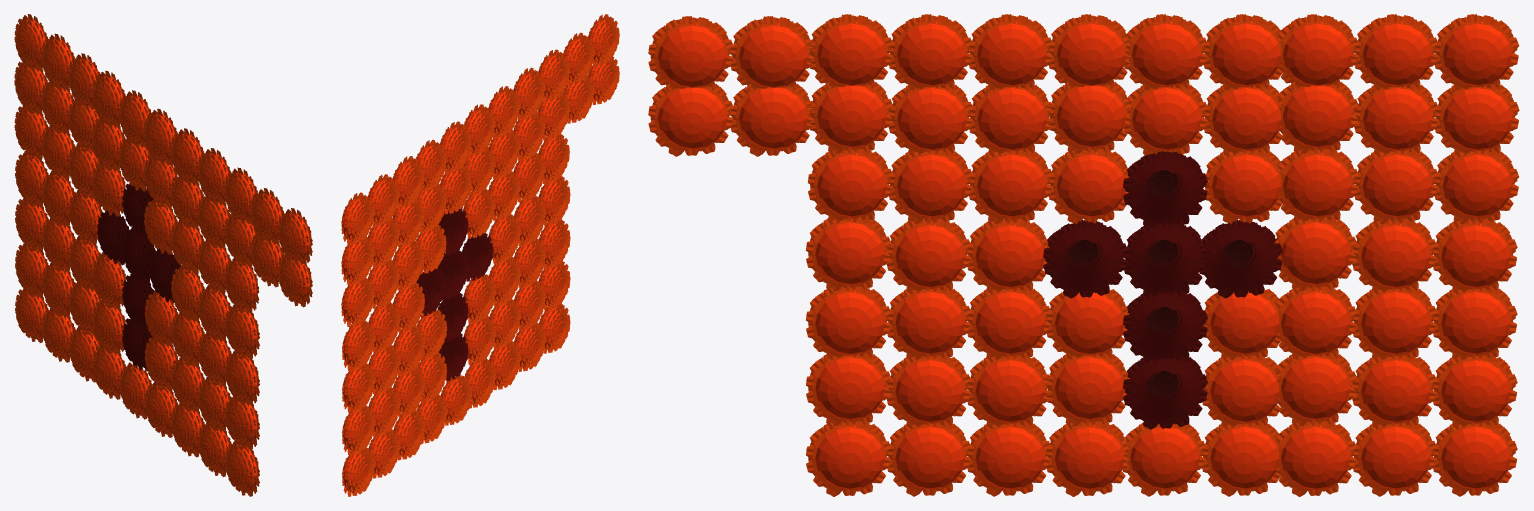
Rendered from entrada4.obj.
The picture shows the model from 3 angles, left to right: view 1: azimuth 30°, elevation 25°; view 2: azimuth 150°, elevation 25°; view 3: azimuth 270°, elevation 25°; orthographic projection. The views are drawn at different scales.
Visible parts, largest first — view 1: Plano.139, Plano.133, Plano.153, Plano.145, Plano.132, Plano.150, Plano.170, Plano.138, Plano.175, Plano.171, Plano.185, Plano.194 (+55 smaller); view 2: Plano.194, Plano.191, Plano.196, Plano.190, Plano.195, Plano.192, Plano.193, Plano.162, Plano.139, Plano.155, Plano.149, Plano.166 (+55 smaller); view 3: Plano.255, Plano.153, Plano.194, Plano.254, Plano.185, Plano.149, Plano.158, Plano.257, Plano.139, Plano.169, Plano.133, Plano.192 (+55 smaller).
Part boxes in pixels (<box>): Plano.139: <box>277,208,312,265</box>; Plano.133: <box>224,256,259,313</box>; Plano.153: <box>225,440,259,496</box>; Plano.145: <box>225,349,259,405</box>; Plano.132: <box>225,303,259,359</box>; Plano.150: <box>225,396,259,449</box>; Plano.170: <box>92,252,125,309</box>; Plano.138: <box>277,253,312,307</box>; Plano.175: <box>92,299,125,354</box>; Plano.171: <box>92,162,125,216</box>; Plano.185: <box>41,33,74,91</box>; Plano.194: <box>14,14,47,71</box>; Plano.194: <box>341,192,374,244</box>; Plano.191: <box>342,321,374,370</box>; Plano.196: <box>342,406,374,455</box>; Plano.190: <box>342,363,374,412</box>; Plano.195: <box>342,448,374,496</box>; Plano.192: <box>341,278,374,326</box>; Plano.193: <box>341,236,374,285</box>; Plano.162: <box>463,274,495,324</box>; Plano.139: <box>588,14,619,66</box>; Plano.155: <box>488,214,520,264</box>; Plano.149: <box>513,67,544,120</box>; Plano.166: <box>440,121,471,173</box>; Plano.255: <box>1043,220,1127,298</box>; Plano.153: <box>806,420,891,496</box>; Plano.194: <box>1433,14,1519,90</box>; Plano.254: <box>1123,151,1207,228</box>; Plano.185: <box>1353,14,1438,90</box>; Plano.149: <box>887,14,972,90</box>; Plano.158: <box>967,14,1052,90</box>; Plano.257: <box>1199,220,1282,298</box>; Plano.139: <box>648,16,733,90</box>; Plano.169: <box>1045,420,1129,496</box>; Plano.133: <box>807,148,892,223</box>; Plano.192: <box>1433,149,1518,224</box>.
Bounding box in the file's own units: 0.0499 × 0.636 × 1.04.
